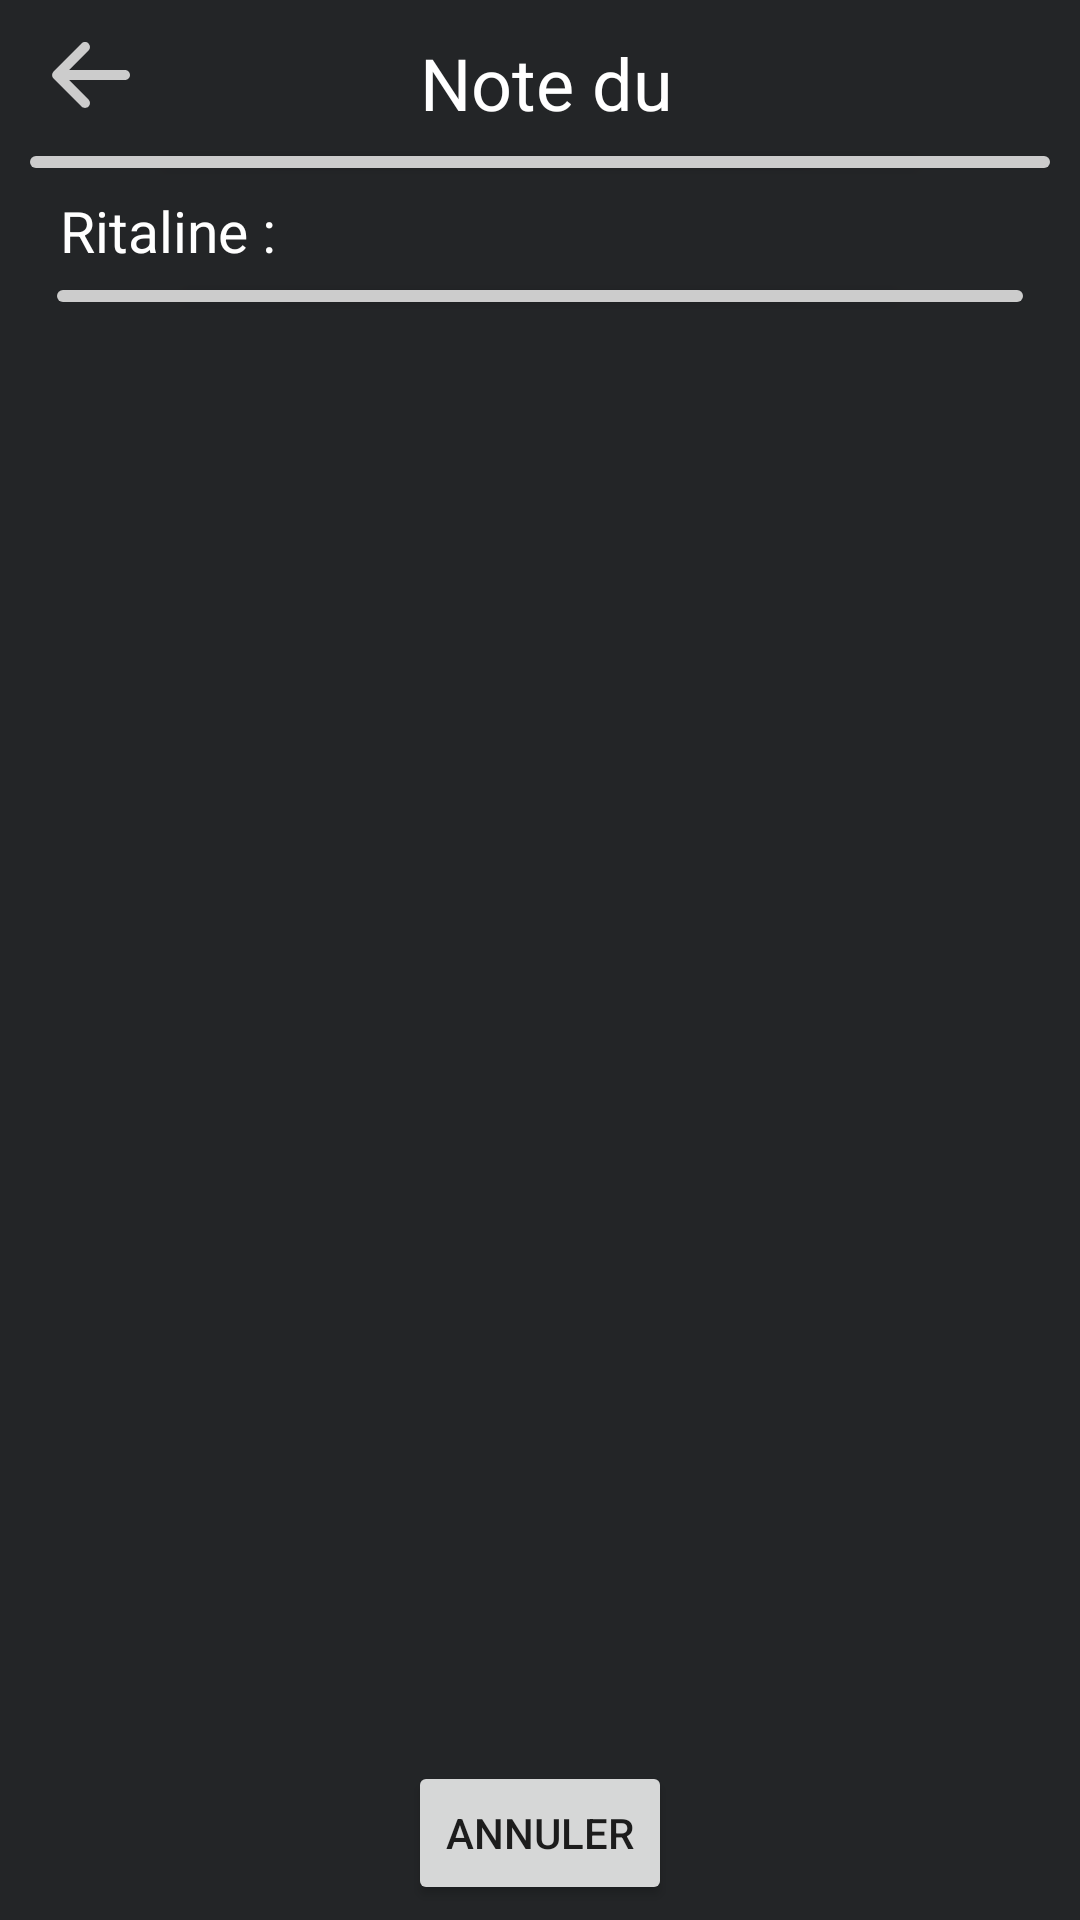

Icons on this 1080×1920 Android screen, each with the point to tap as (x,y):
arrow left: (91,75)
